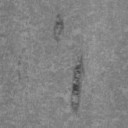oxide scale of plate system: (70, 54, 86, 114), (52, 13, 66, 43)
